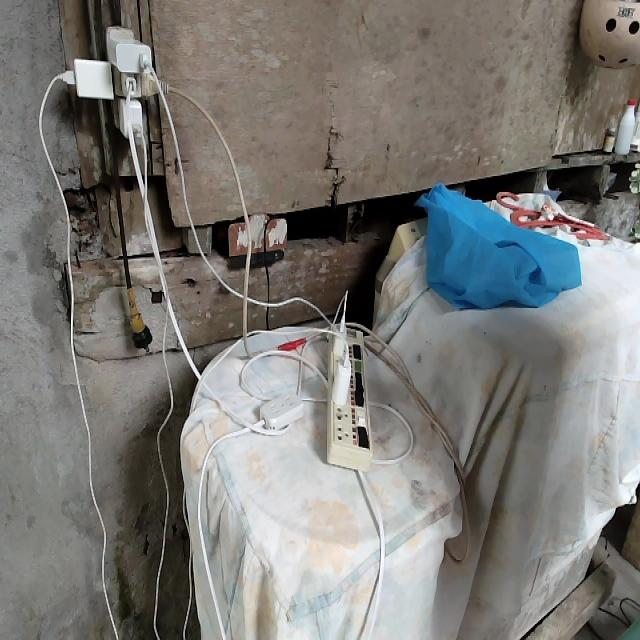-: (61, 21, 167, 140)
